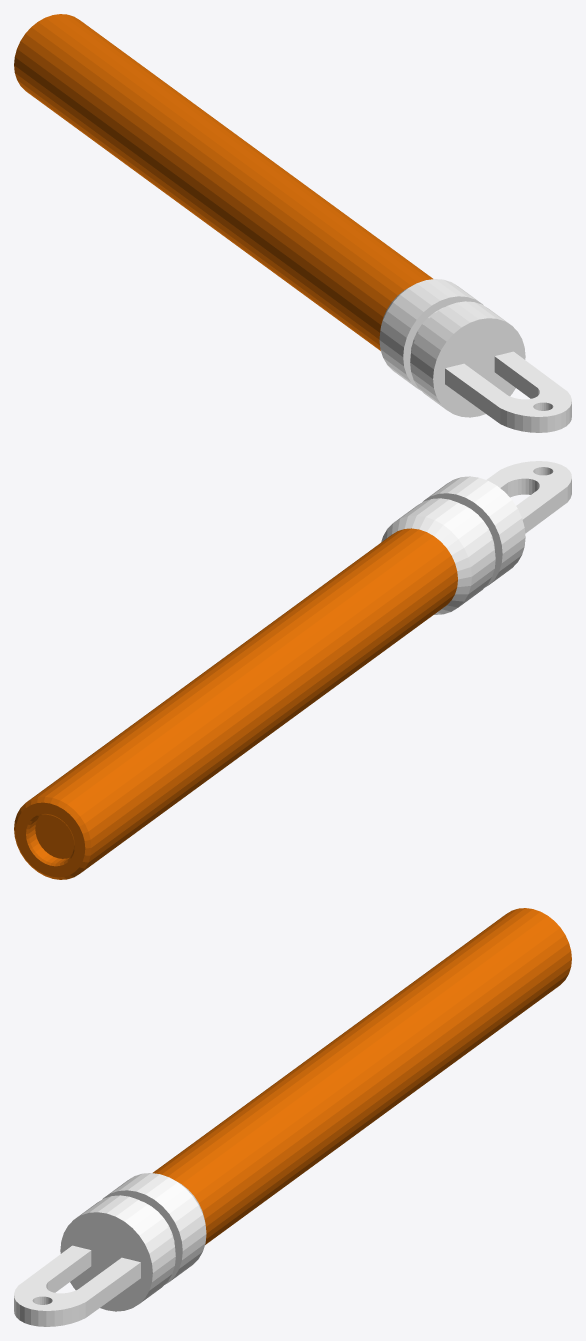
File: cyalume.fbx
3 views of the same model, one above another, from view 1: azimuth 30°, elevation 25°; view 2: azimuth 150°, elevation 25°; view 3: azimuth 330°, elevation 25° (orthographic).
Visible parts, largest first — view 1: Cylinder, Cylinder.003, Cylinder.001, Cylinder.004; view 2: Cylinder, Cylinder.004, Cylinder.003, Cylinder.001; view 3: Cylinder, Cylinder.003, Cylinder.001, Cylinder.004.
Part boxes in pixels (x1,y1,x2,y2): Cylinder: [14, 14, 432, 350]; Cylinder.003: [410, 301, 525, 417]; Cylinder.001: [445, 351, 571, 432]; Cylinder.004: [379, 279, 483, 390]; Cylinder: [14, 528, 457, 879]; Cylinder.004: [381, 498, 495, 614]; Cylinder.003: [423, 476, 525, 587]; Cylinder.001: [486, 461, 571, 533]; Cylinder: [153, 908, 571, 1244]; Cylinder.003: [60, 1195, 175, 1311]; Cylinder.001: [14, 1245, 140, 1326]; Cylinder.004: [102, 1173, 206, 1284].
Size of the model in its own units: 6.01 by 6.01 by 56.77.
